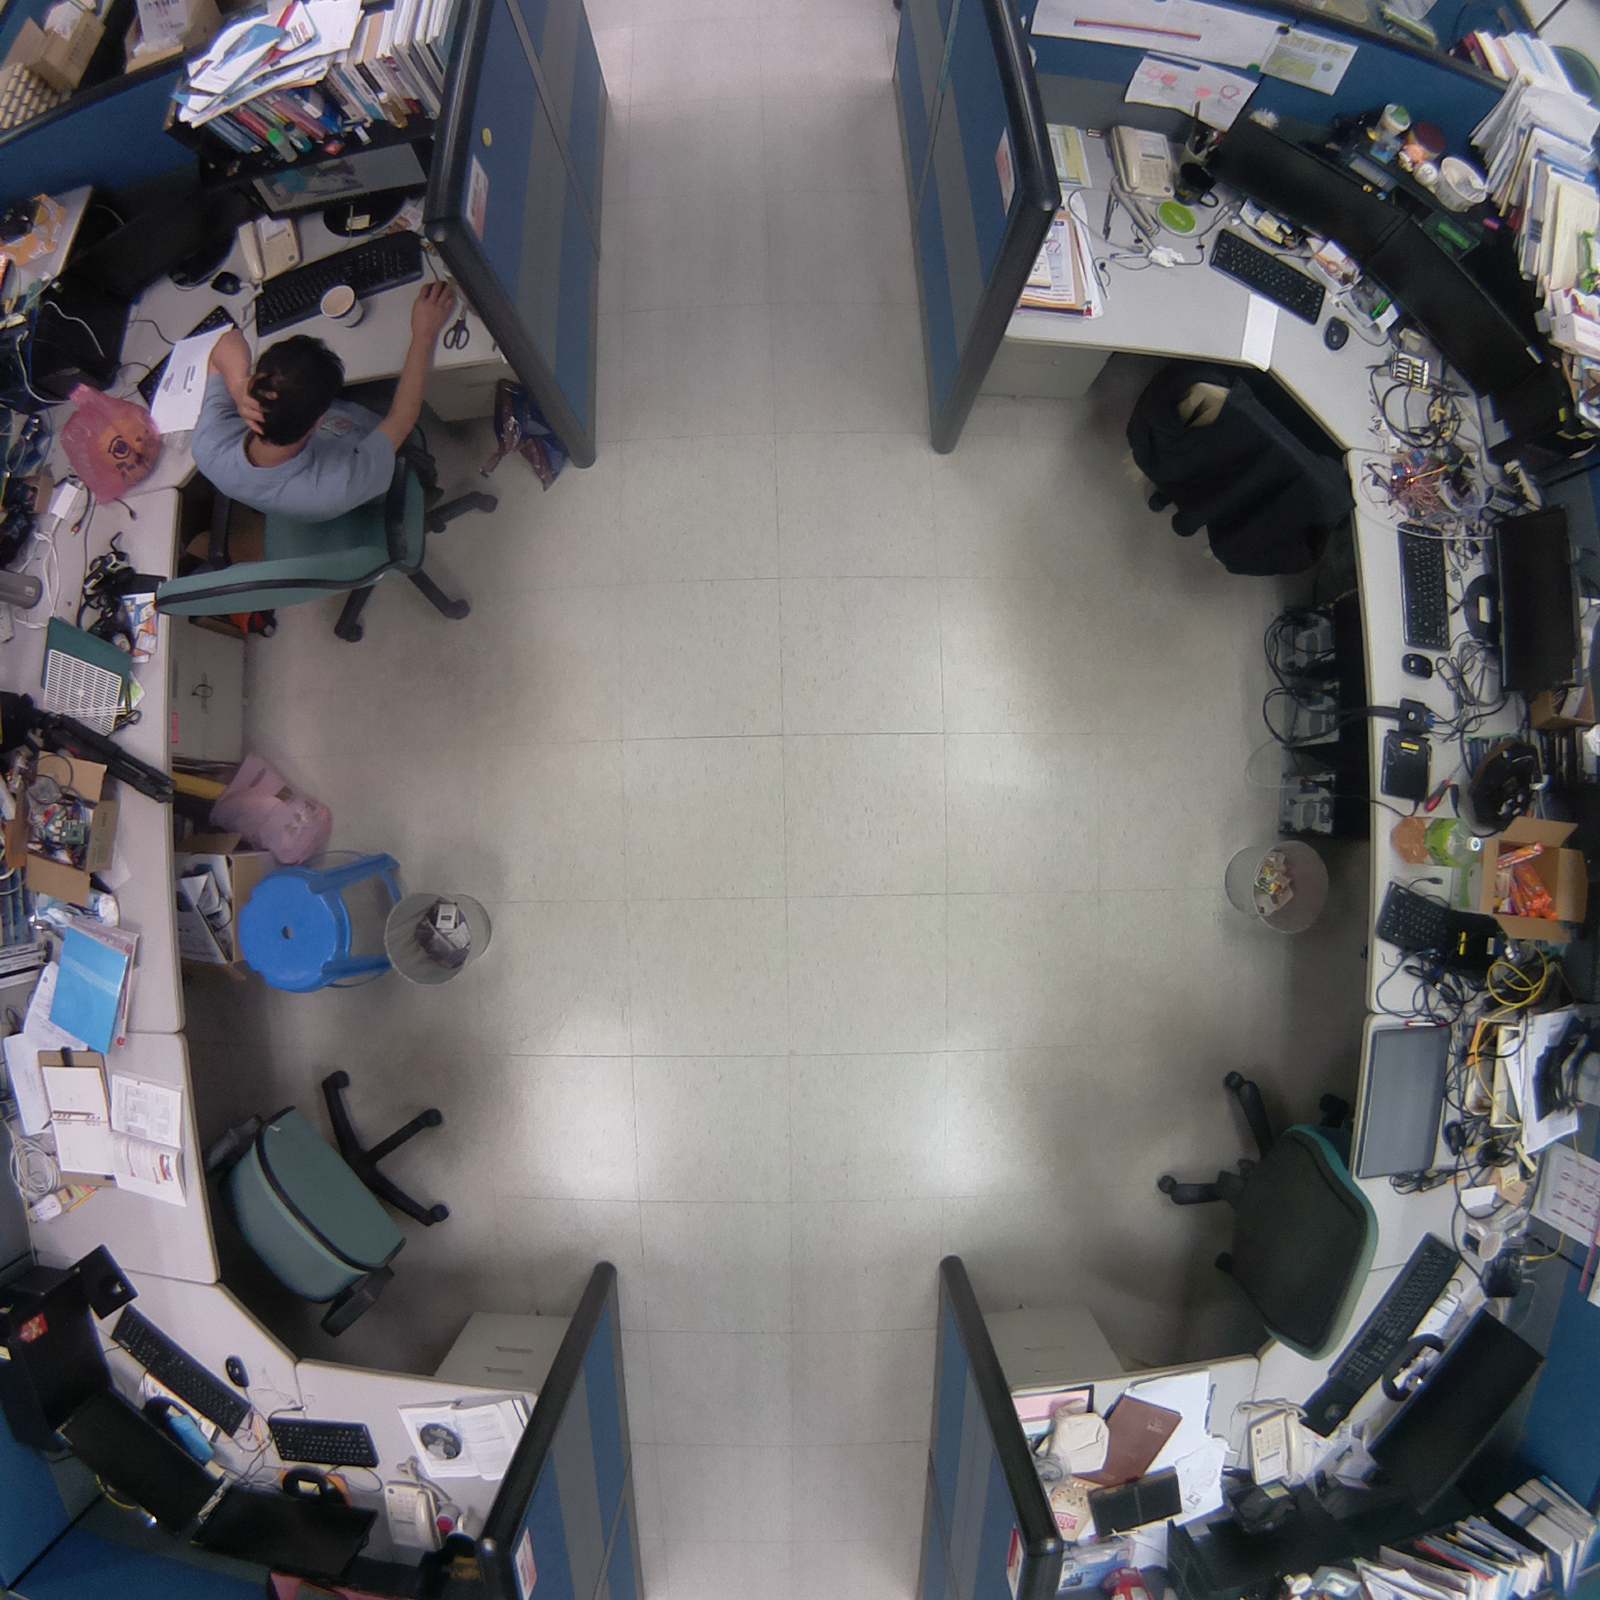chair: (1137, 1042, 1391, 1370), (196, 1052, 473, 1342), (1114, 334, 1386, 593)
head: (241, 325, 348, 436)
sitting: (137, 309, 506, 655)
